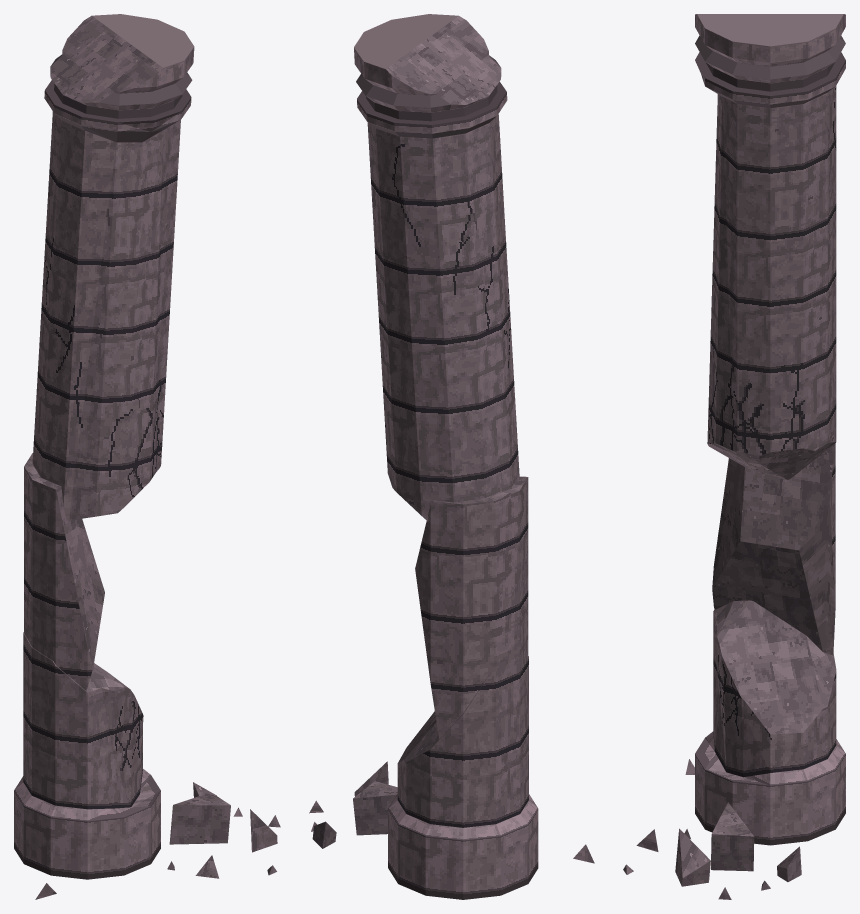
Rendered from saeule_z2_treffer2.glb.
3 views of the same model, side by side, from view 1: azimuth 30°, elevation 25°; view 2: azimuth 150°, elevation 25°; view 3: azimuth 270°, elevation 25° (orthographic). The views are drawn at different scales.
Parts seen in each view (by area): view 1: saeule_z2_treffer2; view 2: saeule_z2_treffer2; view 3: saeule_z2_treffer2.
Boxes of the visible parts, x1,y1,x2,y2 form: saeule_z2_treffer2: [14, 14, 280, 899]; saeule_z2_treffer2: [309, 14, 594, 899]; saeule_z2_treffer2: [623, 14, 845, 899].
Bounding box in the file's own units: 2.04 × 6 × 1.48.
1 material, 1 textured.
